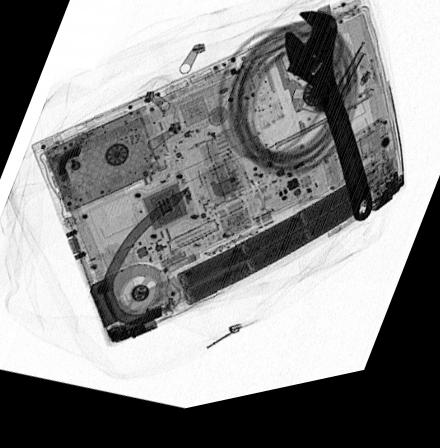Wrench: (280, 24, 374, 238)
